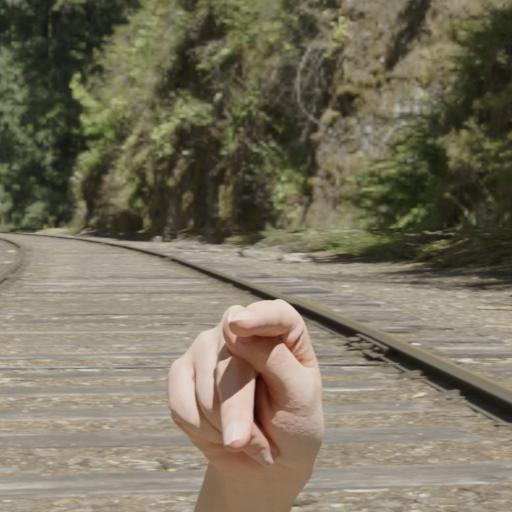P: (163, 296, 331, 486)
